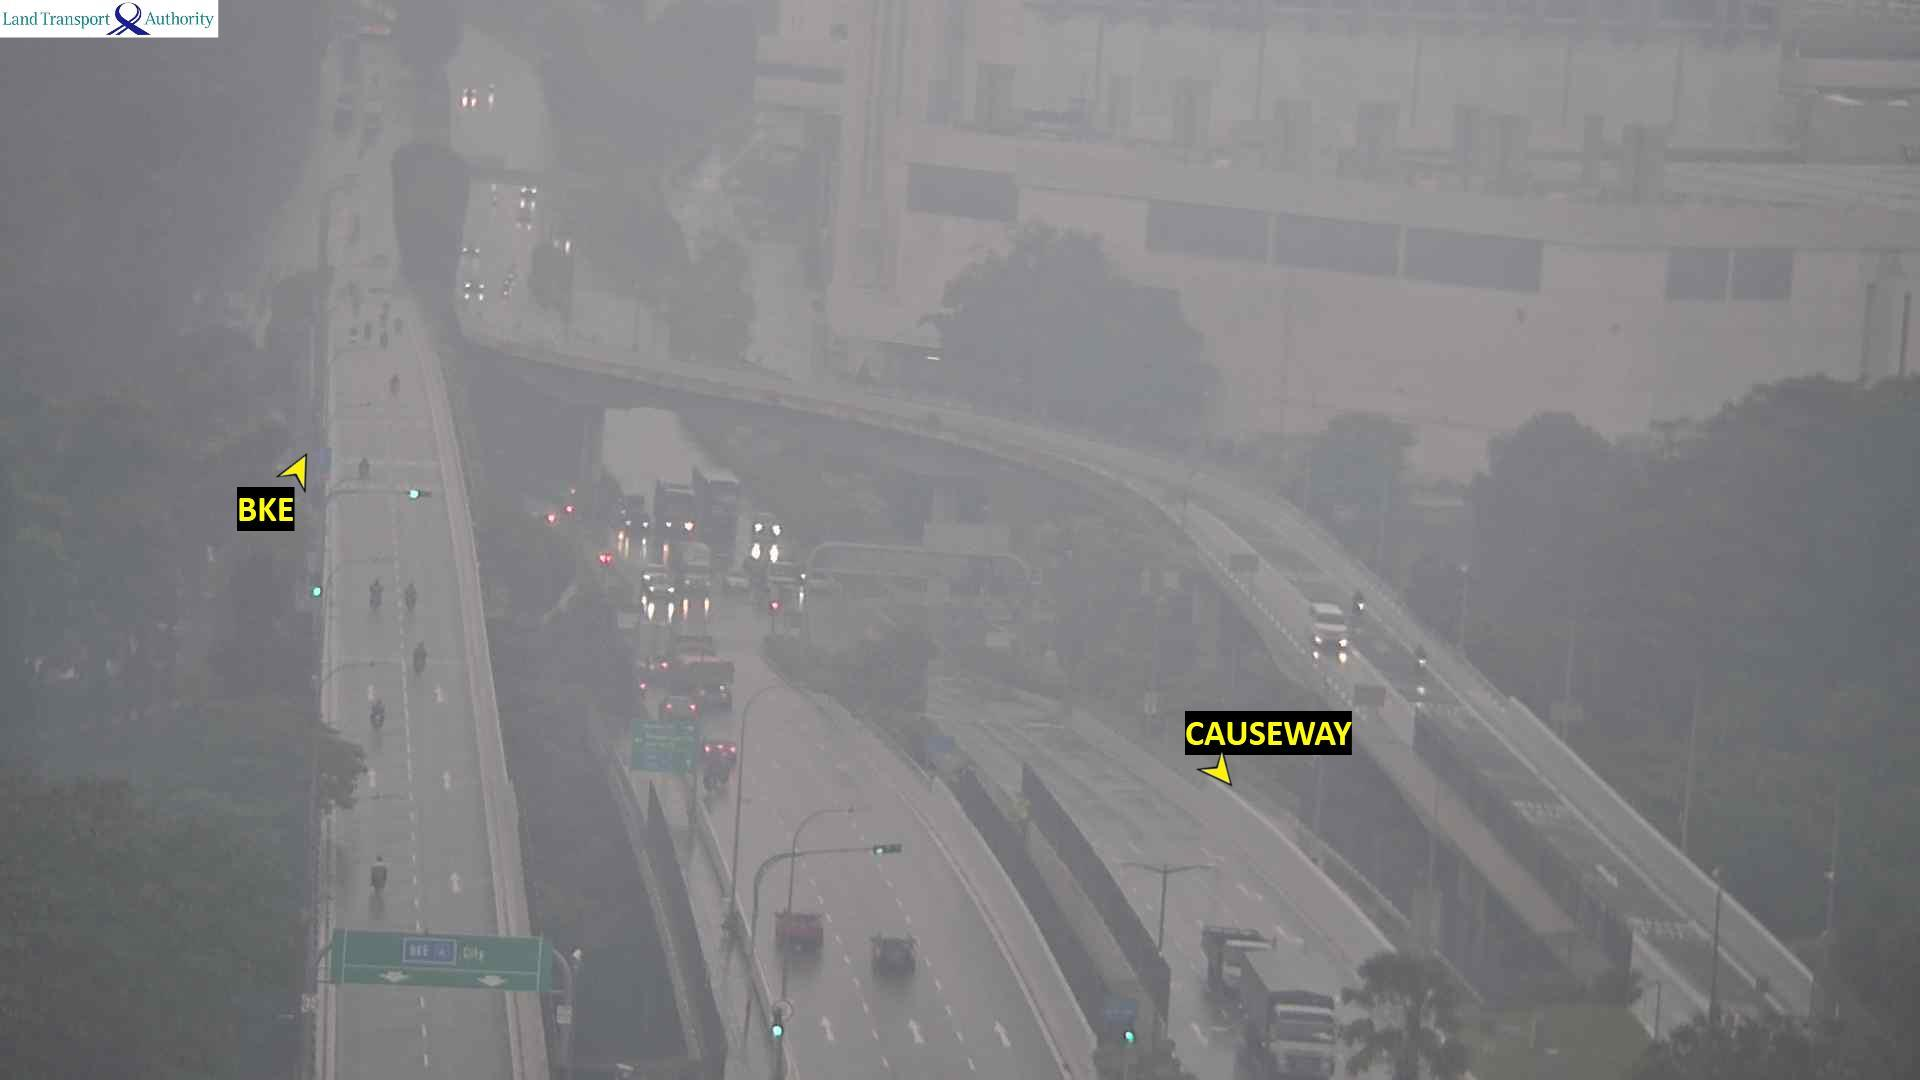vehicle-causeway-johor: (1245, 989, 1337, 1079), (1209, 926, 1276, 994), (690, 465, 742, 521), (1311, 605, 1354, 654), (659, 483, 694, 533), (752, 514, 783, 538), (754, 388, 782, 405), (1415, 645, 1428, 673), (1354, 588, 1364, 613), (462, 282, 473, 301), (462, 248, 481, 256)
vehicle-causeway-singapore: (679, 657, 733, 702), (777, 910, 824, 948), (870, 936, 911, 978), (658, 698, 692, 719), (369, 856, 386, 894), (365, 575, 385, 608), (367, 698, 386, 729), (711, 746, 737, 765), (414, 645, 426, 673), (406, 584, 418, 612), (407, 488, 426, 502), (357, 458, 369, 480), (393, 372, 402, 393), (347, 324, 359, 340), (397, 318, 406, 338), (364, 322, 372, 340), (380, 332, 386, 345)
